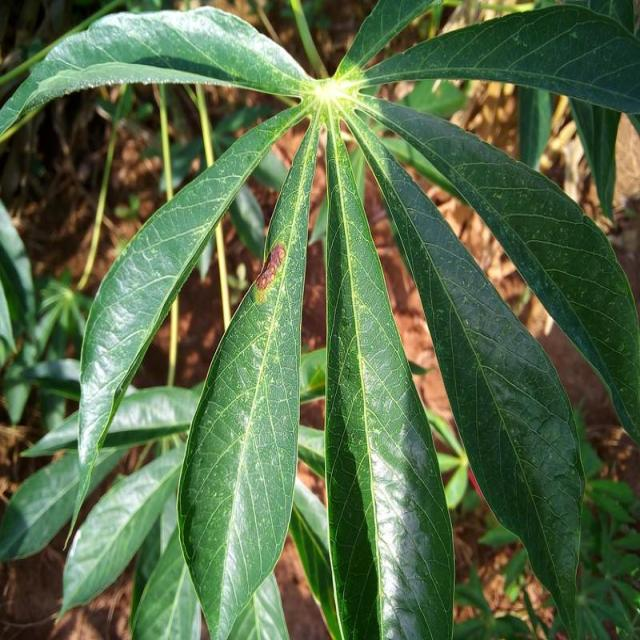cassava leaf: (1, 1, 638, 638), (174, 104, 321, 638), (322, 107, 456, 638)
